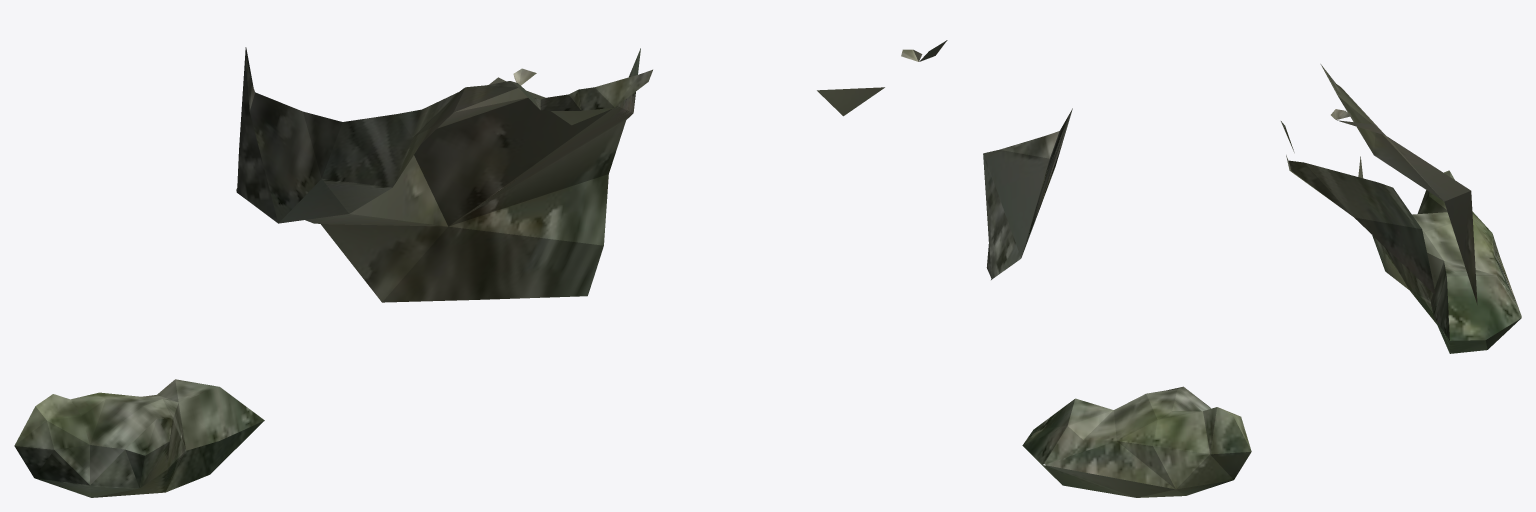
3 renders of one model, left to right at view 1: azimuth 30°, elevation 25°; view 2: azimuth 150°, elevation 25°; view 3: azimuth 270°, elevation 25°, orthographic. The views are drawn at different scales.
Bounding box in the file's own units: 2.69 × 1.63 × 0.9845.
Materials: 1 (1 with a texture image).
